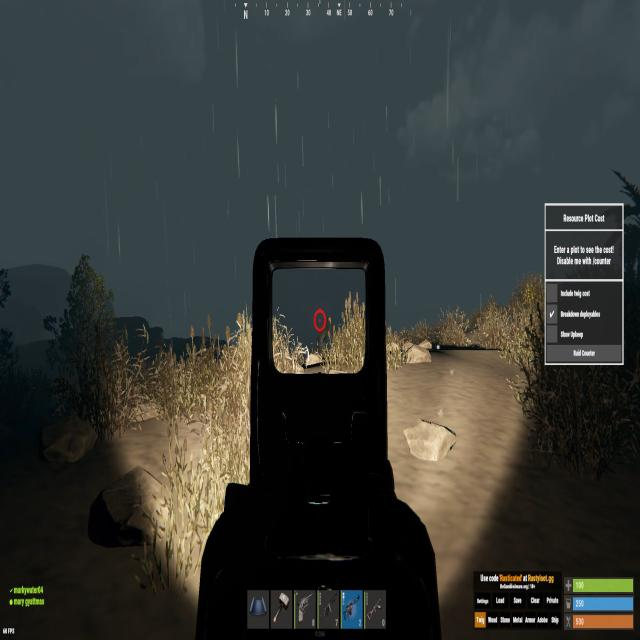Player: (314, 313, 332, 359)
